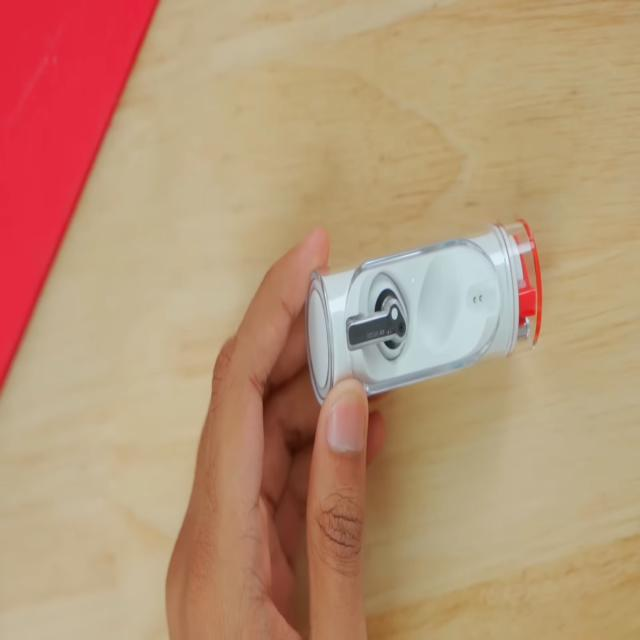airpods: (343, 272, 409, 364)
